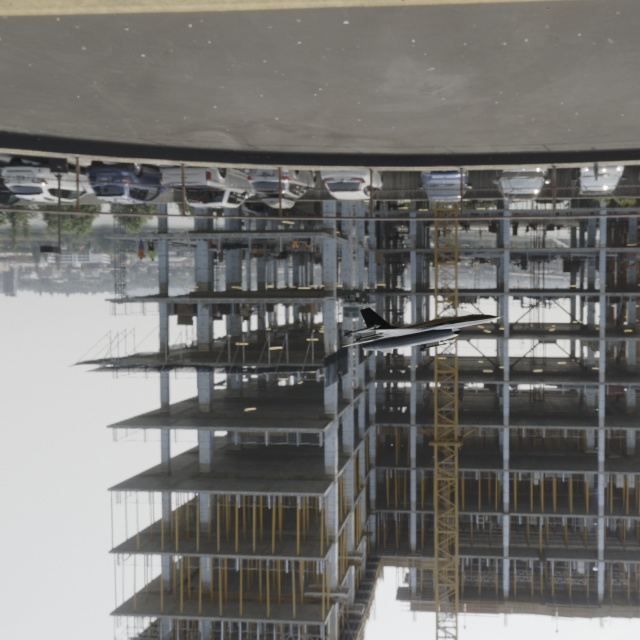model: (320, 259, 540, 361)
